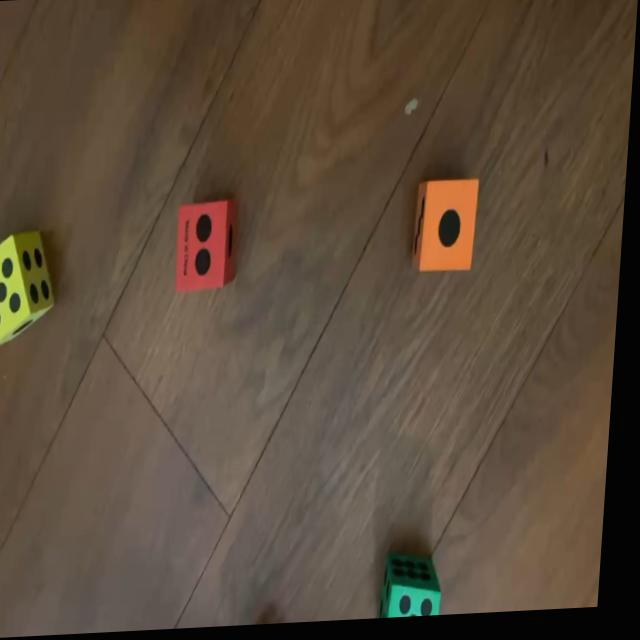red_block: (178, 201, 243, 292)
